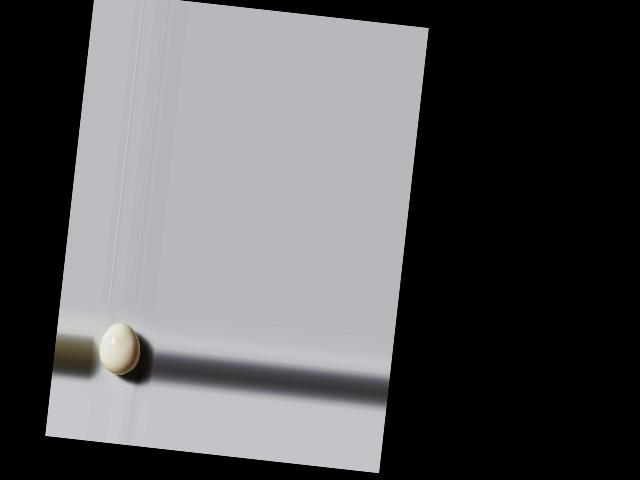egg: (97, 321, 143, 377)
